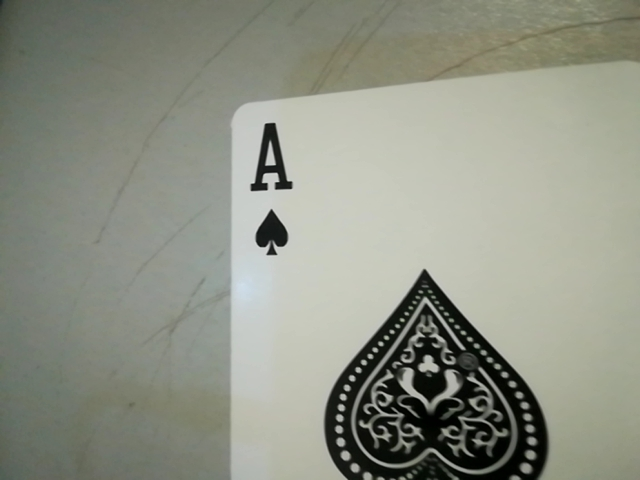ht a: (238, 115, 311, 267)
